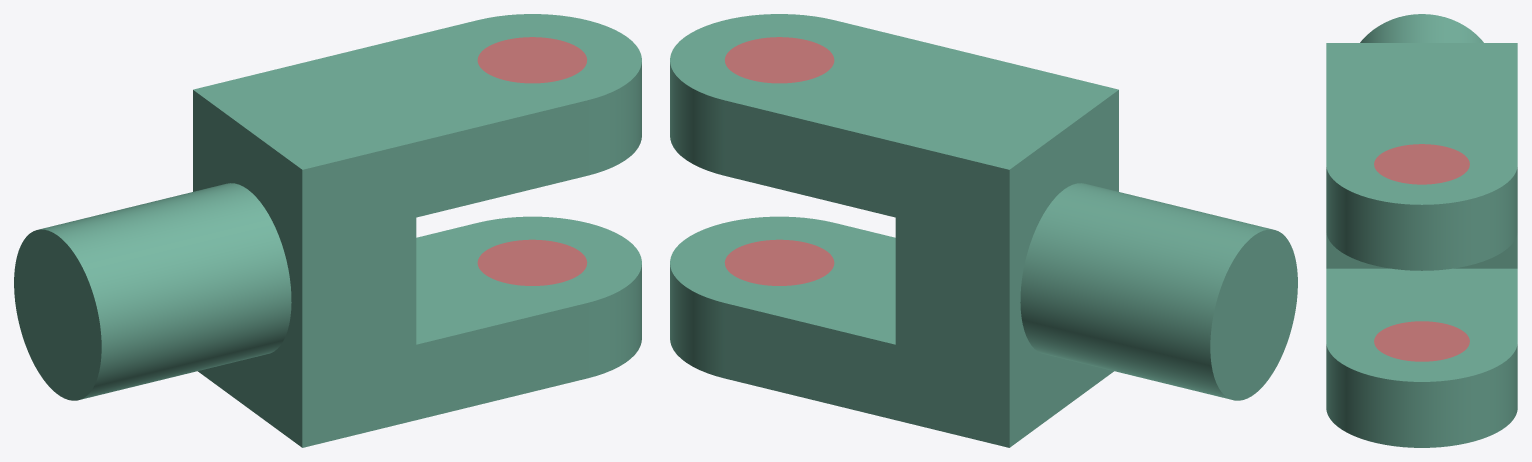
File: step_05.glb
The picture shows the model from 3 angles, left to right: view 1: azimuth 30°, elevation 25°; view 2: azimuth 150°, elevation 25°; view 3: azimuth 270°, elevation 25°; orthographic projection. The views are drawn at different scales.
Visible parts, largest first — view 1: part__fork end, removed__fork end; view 2: part__fork end, removed__fork end; view 3: part__fork end, removed__fork end.
Boxes of the visible parts, x1,y1,x2,y2 form: part__fork end: (14,14,641,447); removed__fork end: (477,37,587,285); part__fork end: (670,14,1297,447); removed__fork end: (724,37,834,285); part__fork end: (1326,14,1517,447); removed__fork end: (1374,144,1469,361).
Bounding box in the file's own units: 150 × 70 × 50.
